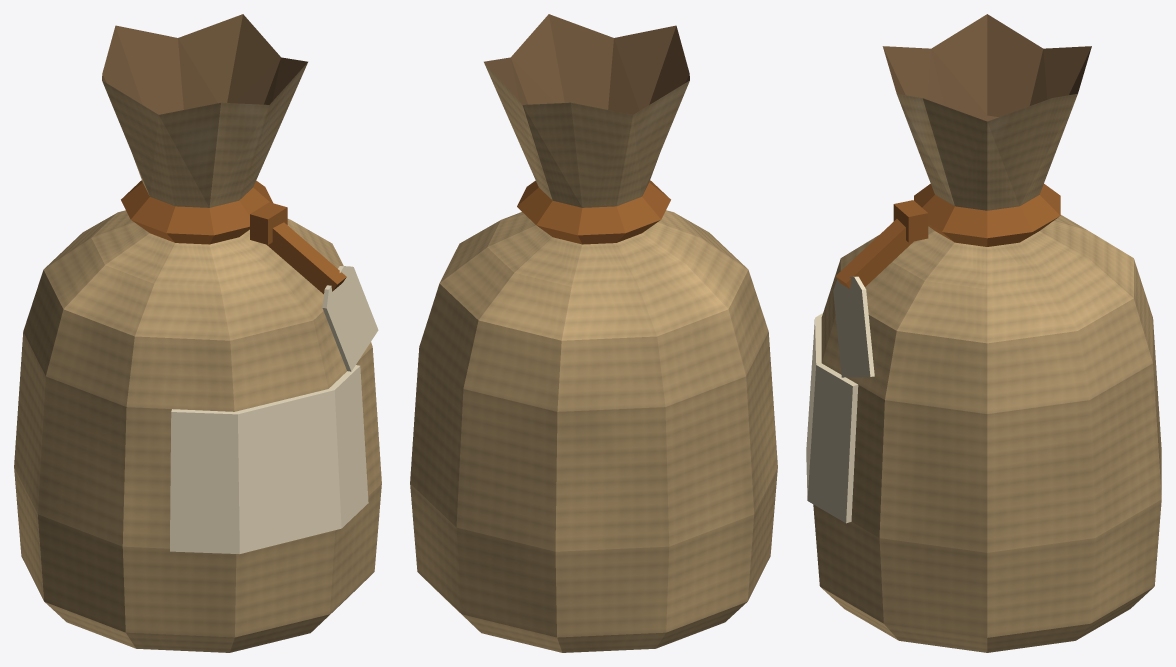
File: FMS_Crate_Seed_Sack_Small.fbx
The picture shows the model from 3 angles, left to right: view 1: azimuth 30°, elevation 25°; view 2: azimuth 150°, elevation 25°; view 3: azimuth 270°, elevation 25°; orthographic projection.
Visible parts, largest first — view 1: item_tools_seed_sack_small; view 2: item_tools_seed_sack_small; view 3: item_tools_seed_sack_small.
Boxes of the visible parts, x1,y1,x2,y2 form: item_tools_seed_sack_small: (14, 14, 381, 652); item_tools_seed_sack_small: (410, 14, 777, 652); item_tools_seed_sack_small: (806, 14, 1161, 652).
Size of the model in its own units: 0.22 by 0.35 by 0.2132.
